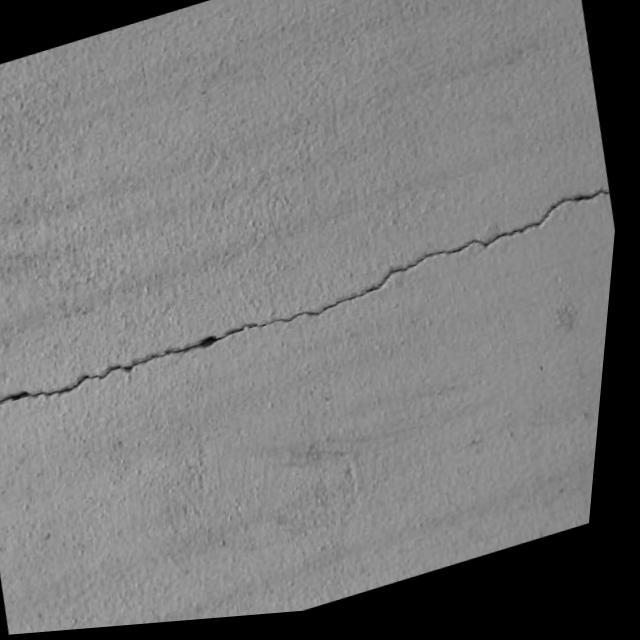Crack: (7, 188, 590, 400)
